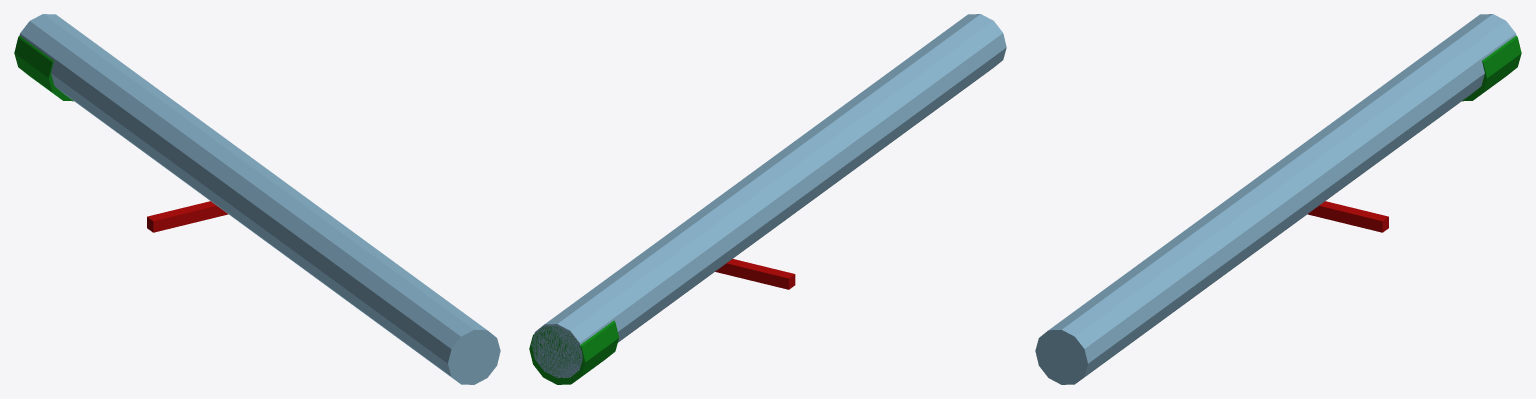
The model's file is coolant_level_low.obj.
3 renders of one model, left to right at view 1: azimuth 30°, elevation 25°; view 2: azimuth 150°, elevation 25°; view 3: azimuth 330°, elevation 25°, orthographic.
Visible parts, largest first — view 1: coolant_level_low; view 2: coolant_level_low; view 3: coolant_level_low.
Part boxes in pixels (x1,y1,x2,y2): coolant_level_low: (14, 14, 500, 384); coolant_level_low: (529, 14, 1006, 384); coolant_level_low: (1035, 14, 1521, 384).
Size of the model in its own units: 0.06 by 0.032 by 0.34.
